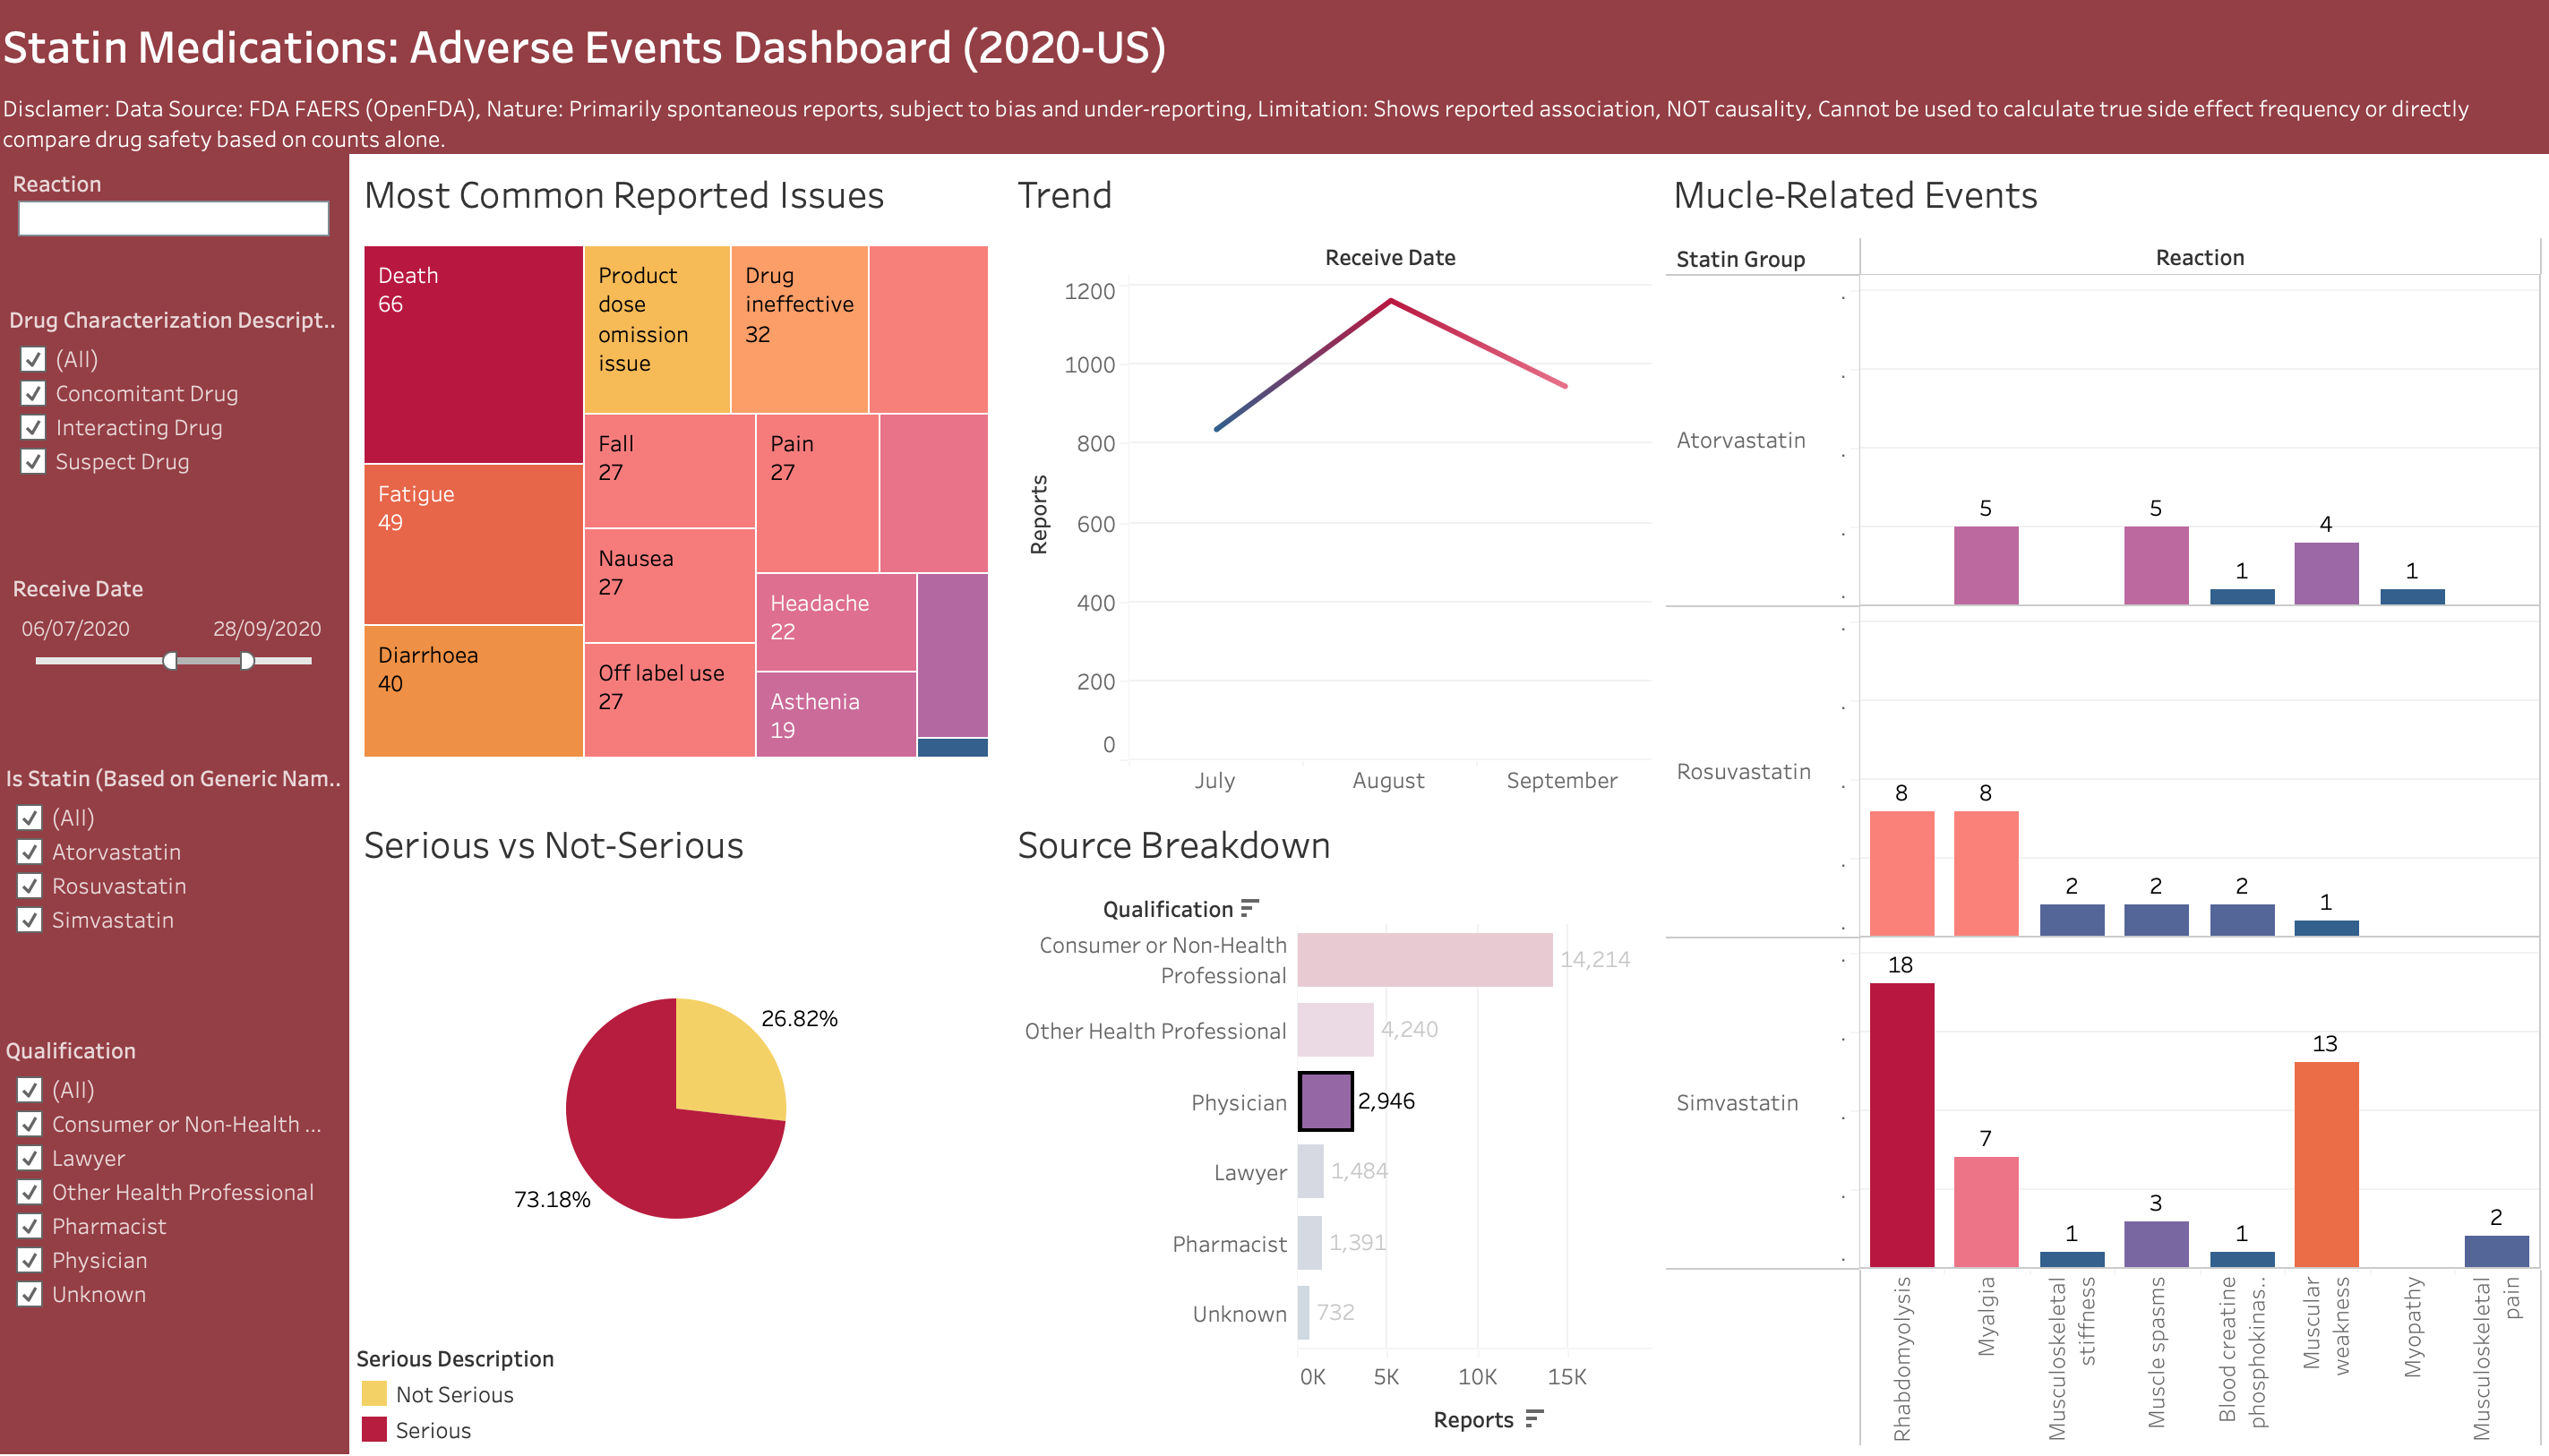

Layout of this report page (visuals, bound fields, positions):
{"tool":"tableau","page":{"name":"Dashboard 1","canvas":[1000,1000],"units":"permille","ordinal":0},"visuals":[{"type":"title","box":[6.6,11.4,986.8,77.1]},{"type":"text","box":[6.6,88.6,986.8,48.6]},{"type":"filter","title":"Most Common Reported Issues","param":"[federated.0z584by1qv8k3h11t4nj408zaubz].[none:reaction:nk]","box":[6.6,137.1,136.1,91.3]},{"type":"worksheet","title":"Most Common Reported Issues","mark":"Automatic","box":[142.7,137.1,252.7,425.6]},{"type":"worksheet","title":"Trend","mark":"Automatic","rows":["Calculation_1427711453997498368"],"cols":["receive_date"],"box":[395.4,137.1,253.7,425.6]},{"type":"worksheet","title":"Mucle-Related Events","mark":"Automatic","rows":["Calculation_2219500564527845376","Calculation_1427711453997498368"],"cols":["reaction"],"box":[649.1,137.1,344.3,851.4]},{"type":"filter","title":"Most Common Reported Issues","param":"[federated.0z584by1qv8k3h11t4nj408zaubz].[none:drug_characterization_description","box":[6.6,228.5,136.1,174.3]},{"type":"filter","title":"Most Common Reported Issues","param":"[federated.0z584by1qv8k3h11t4nj408zaubz].[none:receive_date:qk]","box":[6.6,402.8,136.1,128.6]},{"type":"filter","title":"Most Common Reported Issues","param":"[federated.0z584by1qv8k3h11t4nj408zaubz].[none:Calculation_4216706262604722176:n","box":[6.6,531.4,136.1,178.6]},{"type":"worksheet","title":"Serious vs Not-Serious","mark":"Pie","box":[142.7,562.7,252.7,331.6]},{"type":"worksheet","title":"Source Breakdown","mark":"Automatic","rows":["Calculation_1530942401727475712"],"cols":["Calculation_1427711453997498368"],"box":[395.4,562.7,253.7,425.9]},{"type":"filter","title":"Source Breakdown","param":"[federated.0z584by1qv8k3h11t4nj408zaubz].[none:Calculation_1530942401727475712:n","box":[6.6,710,136.1,278.6]},{"type":"legend","title":"Serious vs Not-Serious","param":"[federated.0z584by1qv8k3h11t4nj408zaubz].[none:serious_description:nk]","box":[142.7,894.3,252.7,94.3]}]}

Visuals, with their boxes on the dashboard's canvas, which has no fixed pixel size, in thousandths of its width and height (x1, y1, x2, y2). These are canvas units, not pixel positions in the 2549x1456 screenshot, which may show the page scaled, cropped or inside an application window:
title: 7, 11, 993, 88
text: 7, 89, 993, 137
"Most Common Reported Issues" filter: 7, 137, 143, 228
"Most Common Reported Issues" worksheet: 143, 137, 395, 563
"Trend" worksheet: 395, 137, 649, 563
"Mucle-Related Events" worksheet: 649, 137, 993, 988
"Most Common Reported Issues" filter: 7, 228, 143, 403
"Most Common Reported Issues" filter: 7, 403, 143, 531
"Most Common Reported Issues" filter: 7, 531, 143, 710
"Serious vs Not-Serious" worksheet (Pie marks): 143, 563, 395, 894
"Source Breakdown" worksheet: 395, 563, 649, 989
"Source Breakdown" filter: 7, 710, 143, 989
"Serious vs Not-Serious" legend: 143, 894, 395, 989
